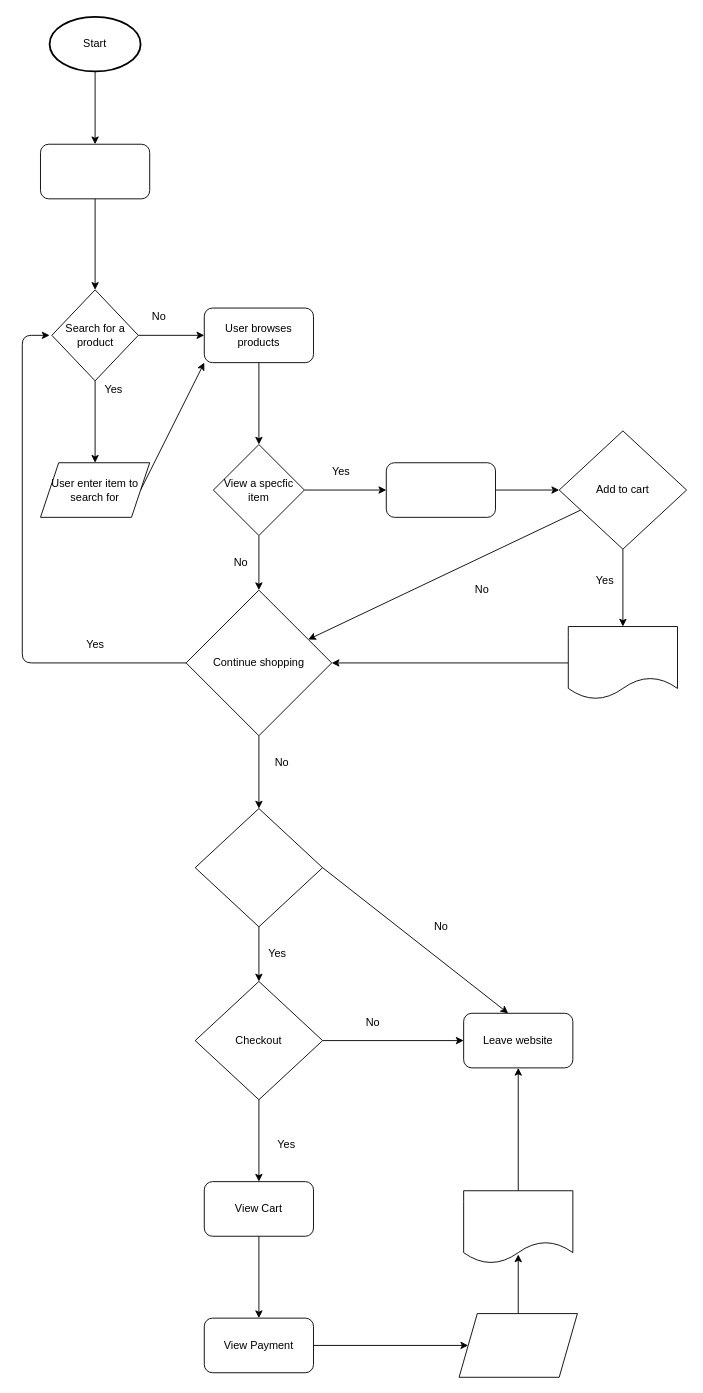
This 703x1393 diagram has some shape labels left out. Each missing label, with the box of its shape:
Added to cart confirmation: (567, 626, 677, 699)
Did user add anything to cart?: (194, 808, 323, 927)
Receives order confirmation and email: (463, 1190, 573, 1264)
User enters payment information: (458, 1313, 577, 1377)
User enters website: (40, 143, 150, 199)
Webpage for item of choice opens: (385, 462, 495, 517)
